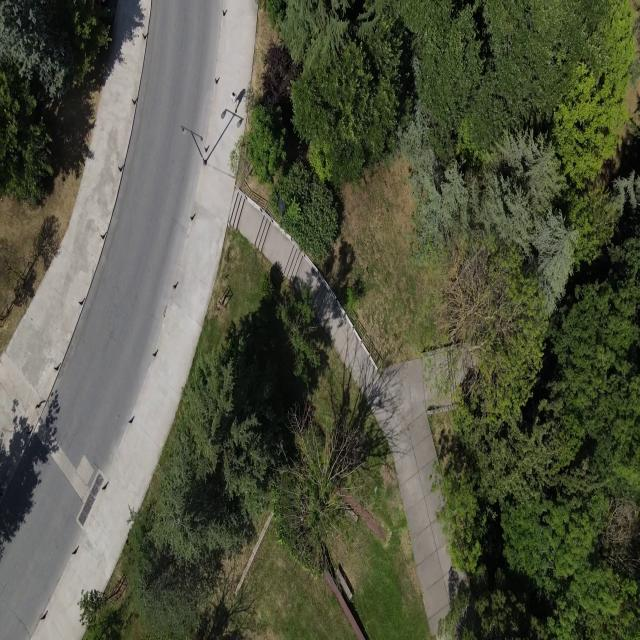p3rson: (230, 91, 238, 113)
